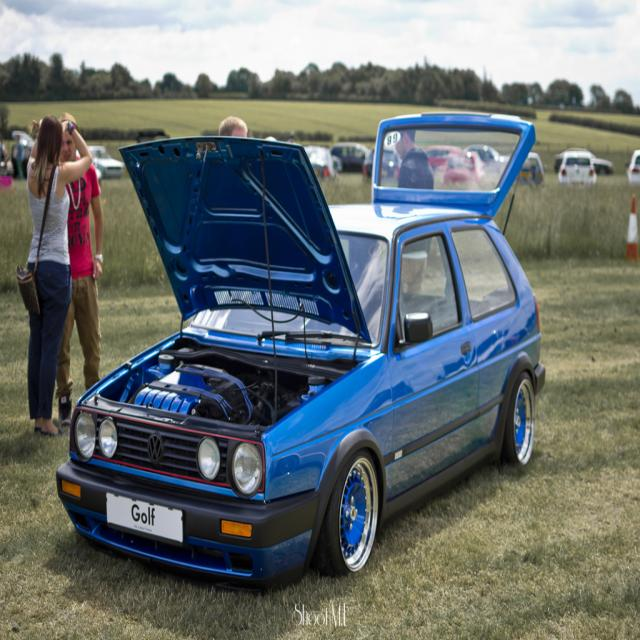car: (45, 141, 510, 605)
